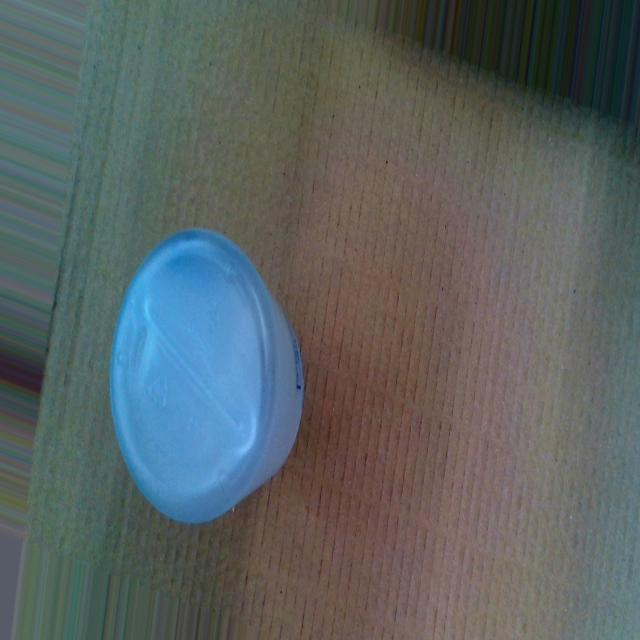bottle: (108, 221, 309, 530)
